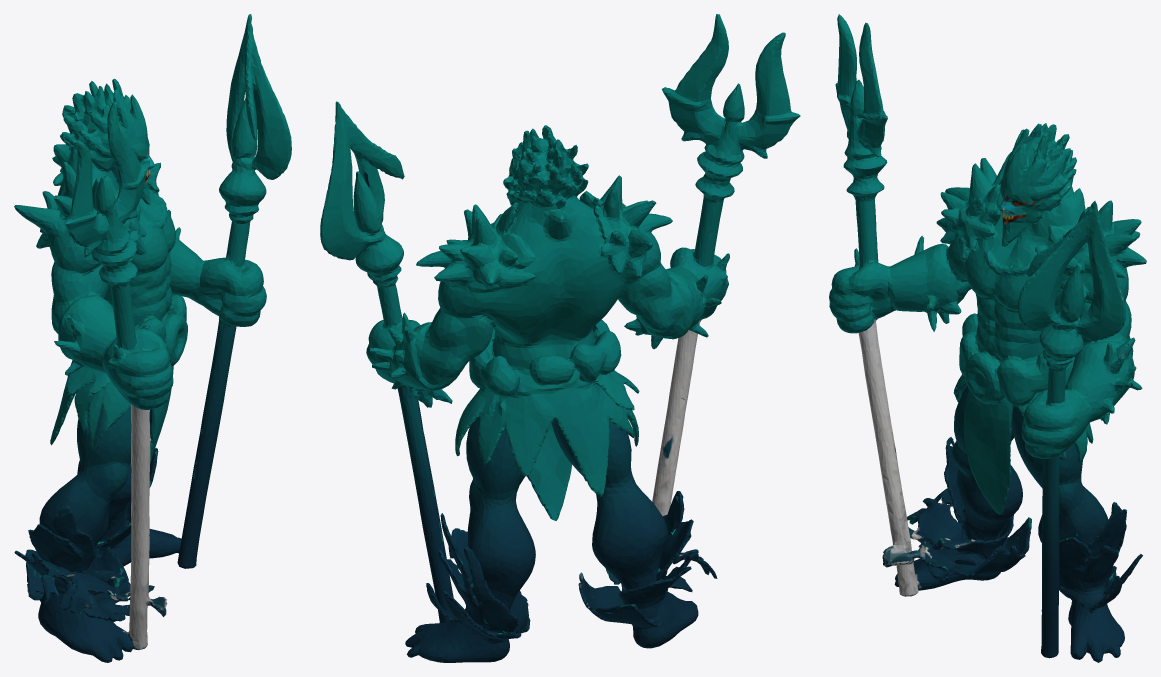
3 views of the same model, side by side, from view 1: azimuth 30°, elevation 25°; view 2: azimuth 150°, elevation 25°; view 3: azimuth 270°, elevation 25° (orthographic). The views are drawn at different scales.
Visible parts, largest first — view 1: textured_mesh.obj; view 2: textured_mesh.obj; view 3: textured_mesh.obj.
Part boxes in pixels (x1=…): textured_mesh.obj: x1=14, y1=14, x2=291, y2=662; textured_mesh.obj: x1=320, y1=14, x2=800, y2=662; textured_mesh.obj: x1=829, y1=14, x2=1146, y2=662.
Size of the model in its own units: 1.16 by 1.98 by 1.03.
1 material, 1 textured.
